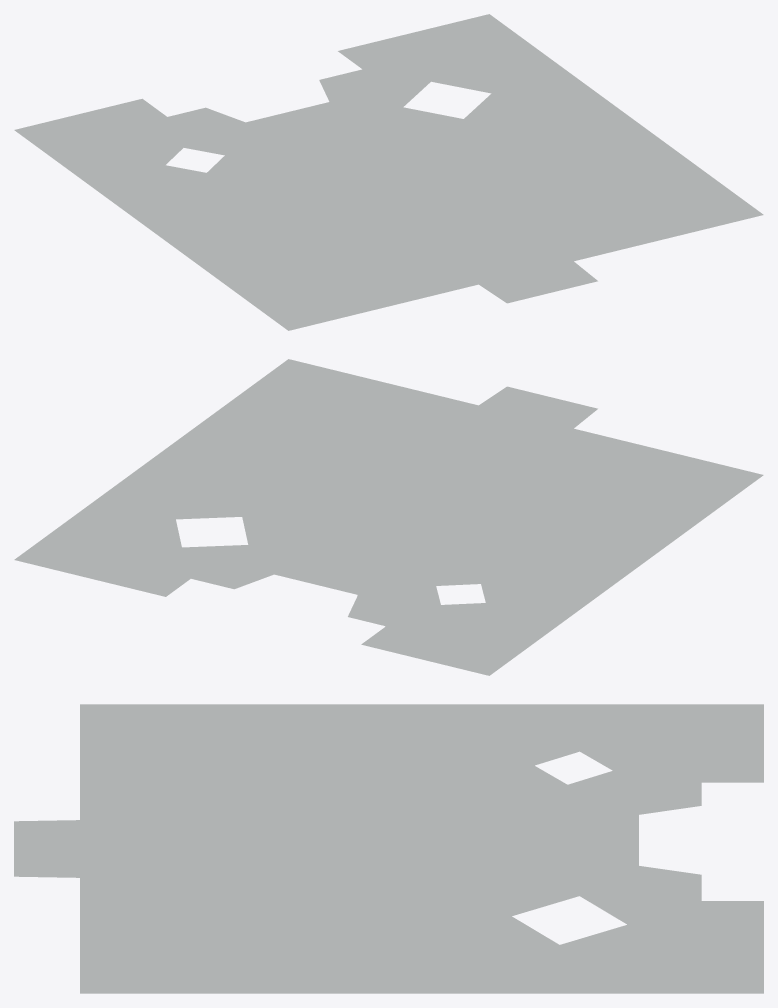
File: Nav.glb
3 views of the same model, one above another, from view 1: azimuth 30°, elevation 25°; view 2: azimuth 150°, elevation 25°; view 3: azimuth 270°, elevation 25° (orthographic). The views are drawn at different scales.
Parts seen in each view (by area): view 1: CryoNavandGround; view 2: CryoNavandGround; view 3: CryoNavandGround.
Boxes of the visible parts, x1=… form: CryoNavandGround: x1=14, y1=14, x2=763, y2=330; CryoNavandGround: x1=14, y1=359, x2=763, y2=675; CryoNavandGround: x1=14, y1=704, x2=763, y2=993.
Bounding box in the file's own units: 10 × 0.0371 × 10.96.
1 material, 1 textured.
